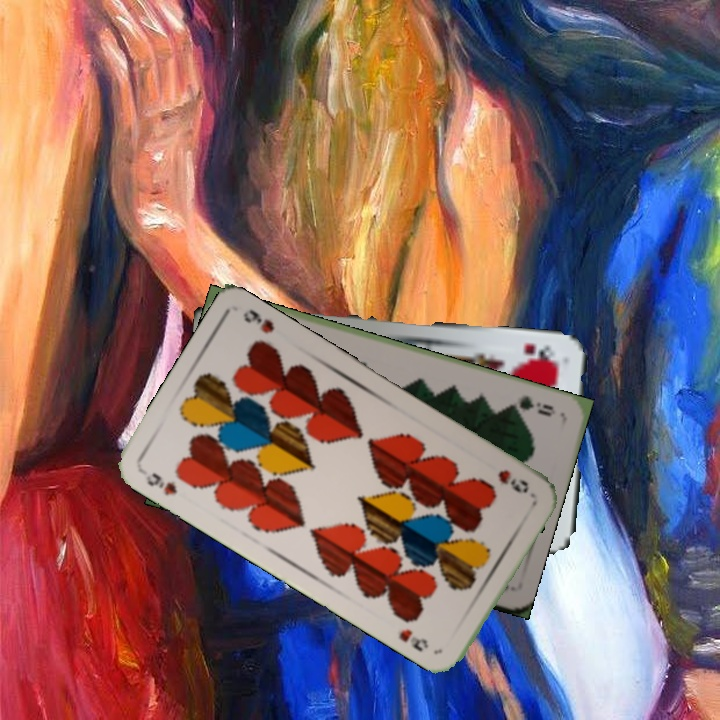G9: (503, 391, 556, 419)
H9: (493, 465, 532, 497), (142, 468, 180, 498)
HK: (519, 339, 561, 364)
